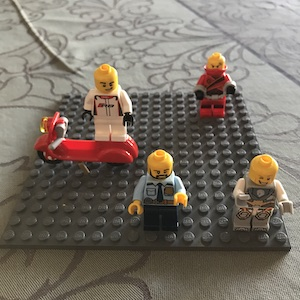Lego: (227, 154, 292, 236), (131, 150, 188, 236), (84, 63, 134, 141), (194, 52, 237, 119)
